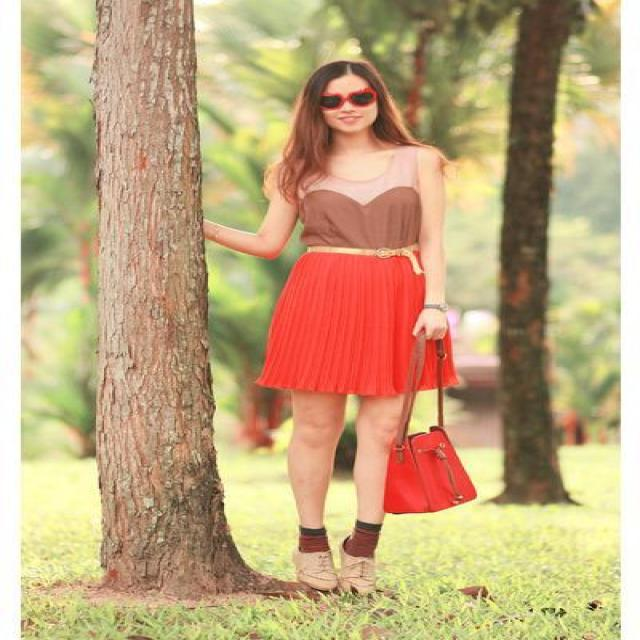bag: (382, 397, 476, 513)
shirt: (288, 187, 421, 255)
shoe: (298, 550, 382, 596)
skirt: (258, 252, 456, 396)
